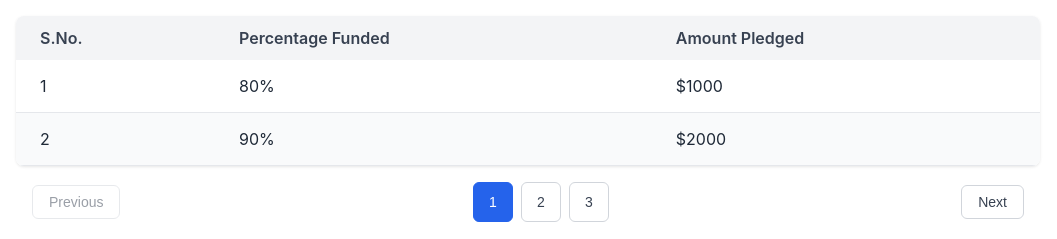
Test: Table Component › pagination › changes page when page number is clicked
The image size is (1057, 239).
Click the button named "Page 2": (541, 202) [521, 182, 561, 222]
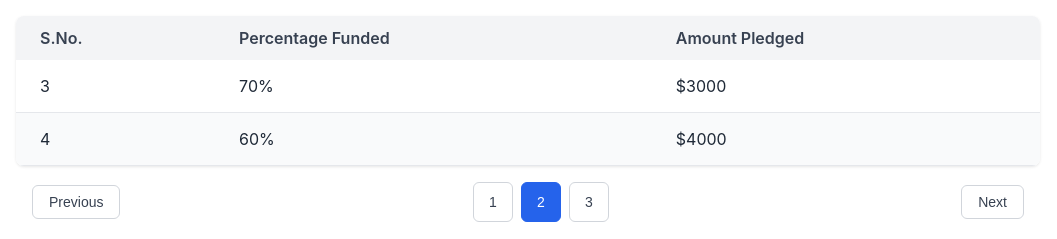
Expected: the text "$3000" is shown, [652, 60, 1040, 112]
